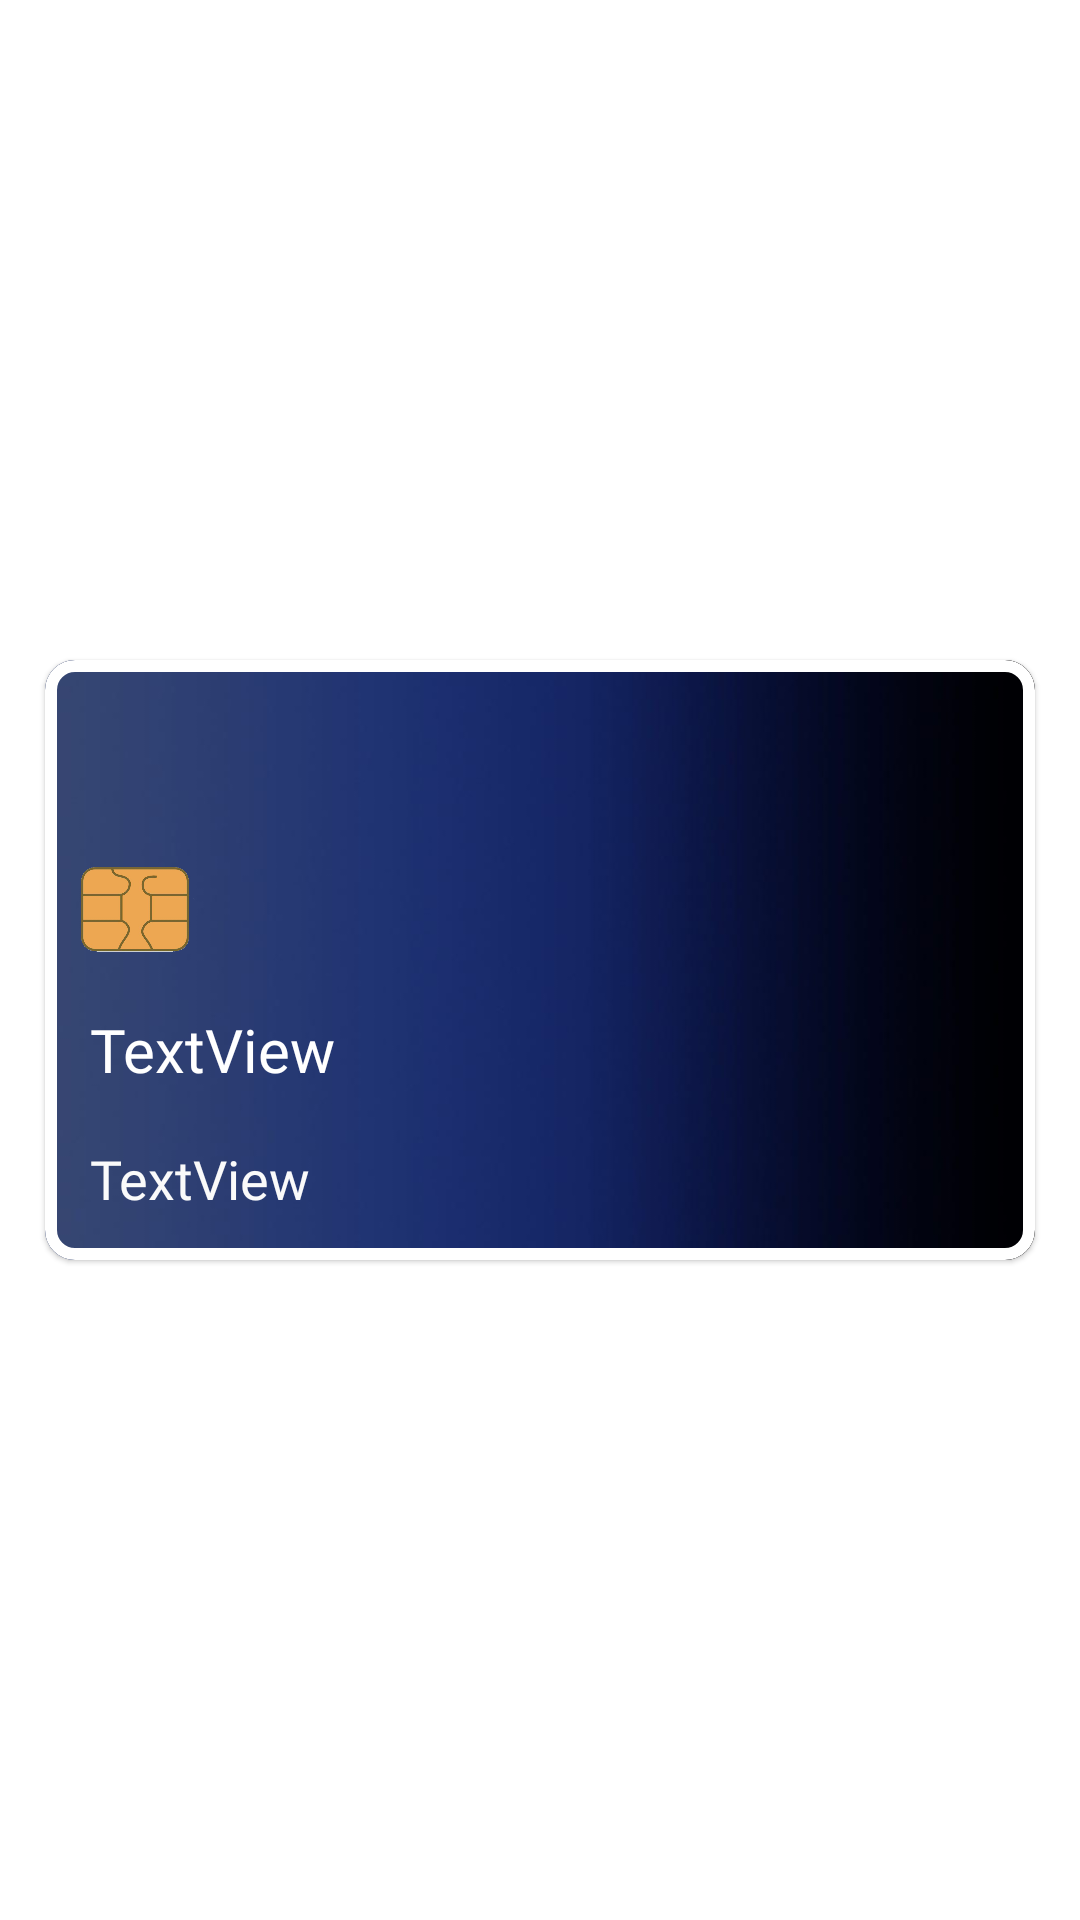

Named icons in this screenshot (1080px×1920px) and their centers, (x,y):
card chip: (135,909)
